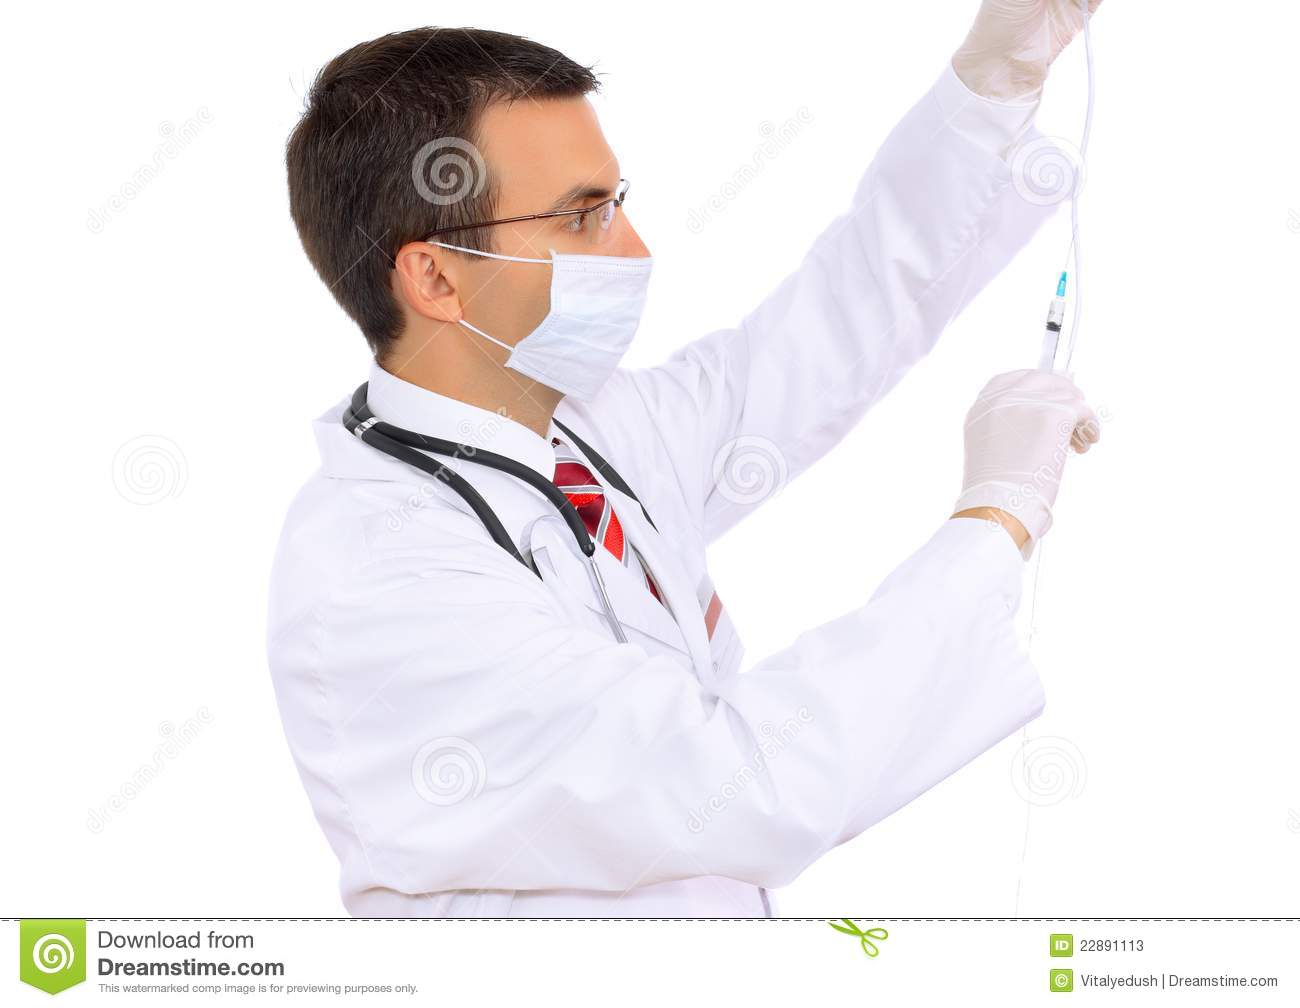mask: (521, 247, 664, 416)
